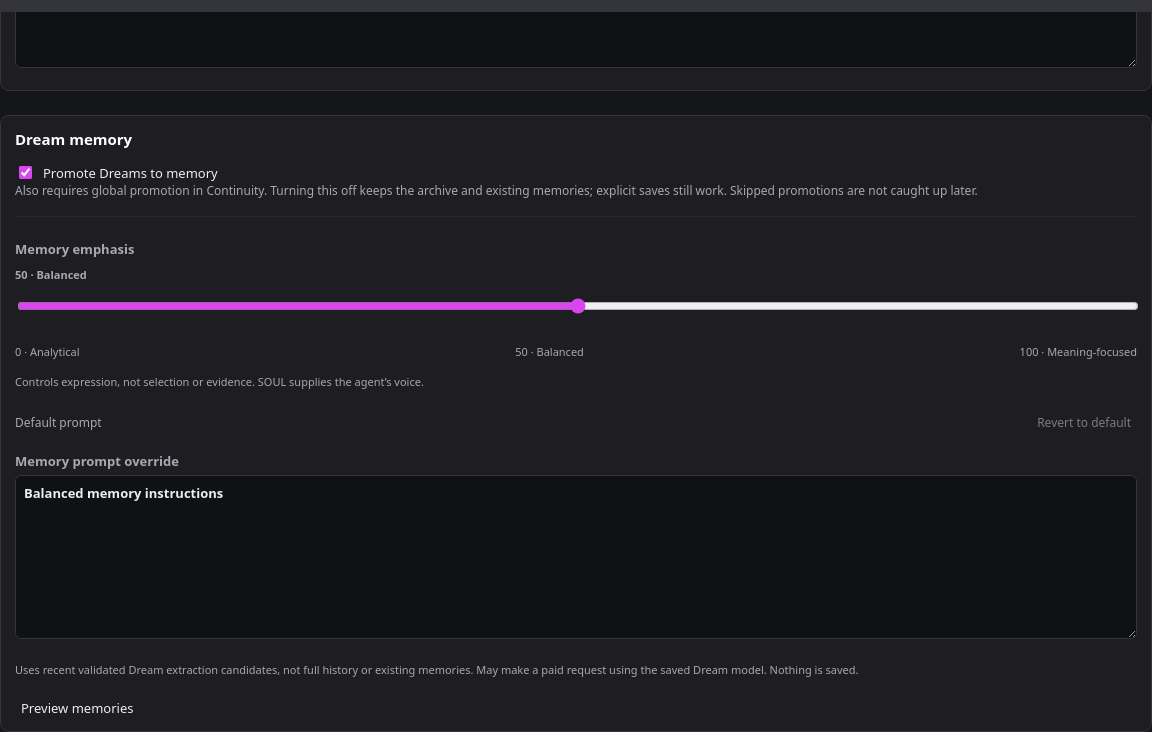
it: requires explicit new sample after token expiry, and keeps Save independent
The image size is (1152, 732).
(page scrolled)
Expected: the slider labelled "Memory emphasis" is enabled, top-left (17, 289), bottom-right (1139, 323)
Click the button "Preview memories" at {"x": 77, "y": 708}, box top-left (15, 698), bottom-right (140, 718)
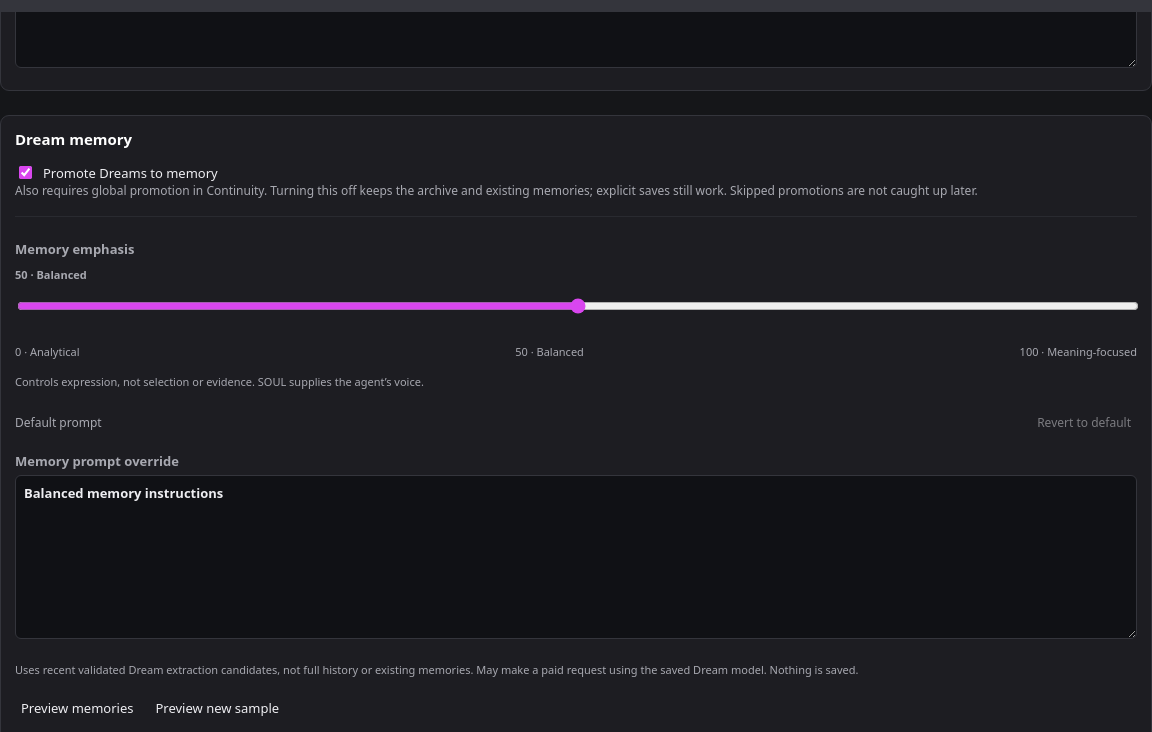
Click the button "Preview memories" at {"x": 77, "y": 708}, box top-left (15, 698), bottom-right (140, 718)
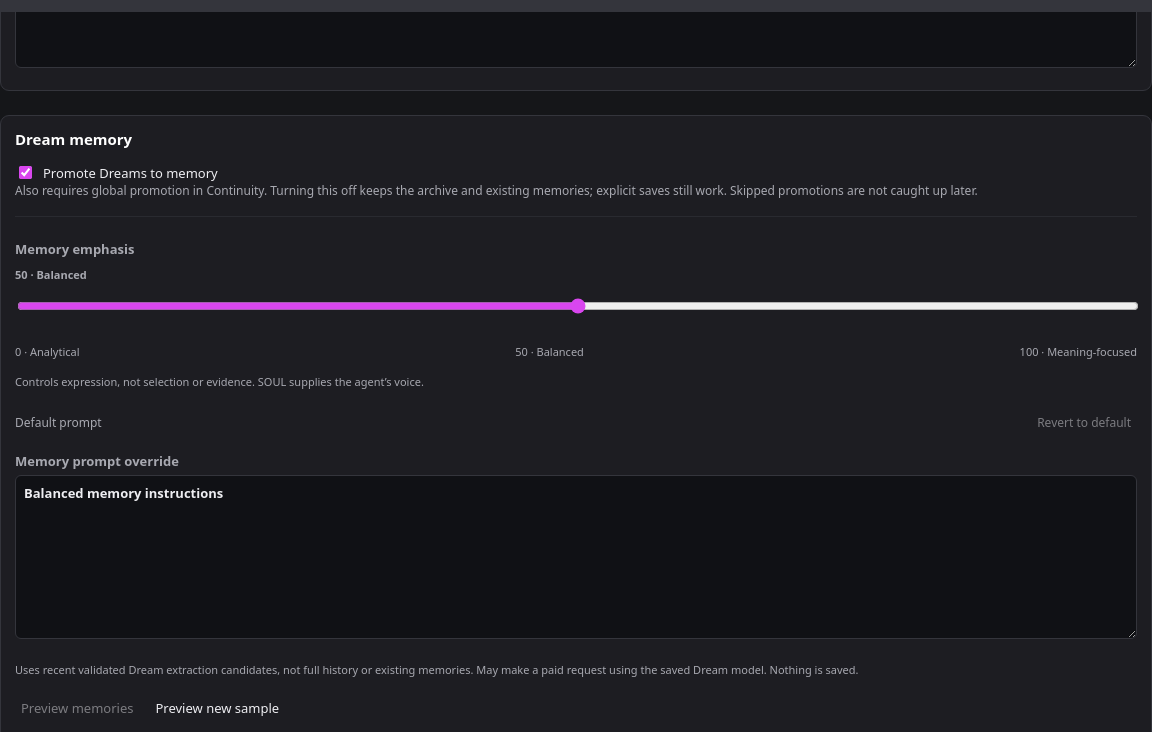
Now the button "Preview memories" is disabled, box top-left (15, 698), bottom-right (140, 718)
Click the button "Preview new sample" at {"x": 217, "y": 708}, box top-left (150, 698), bottom-right (285, 718)
(page scrolled)
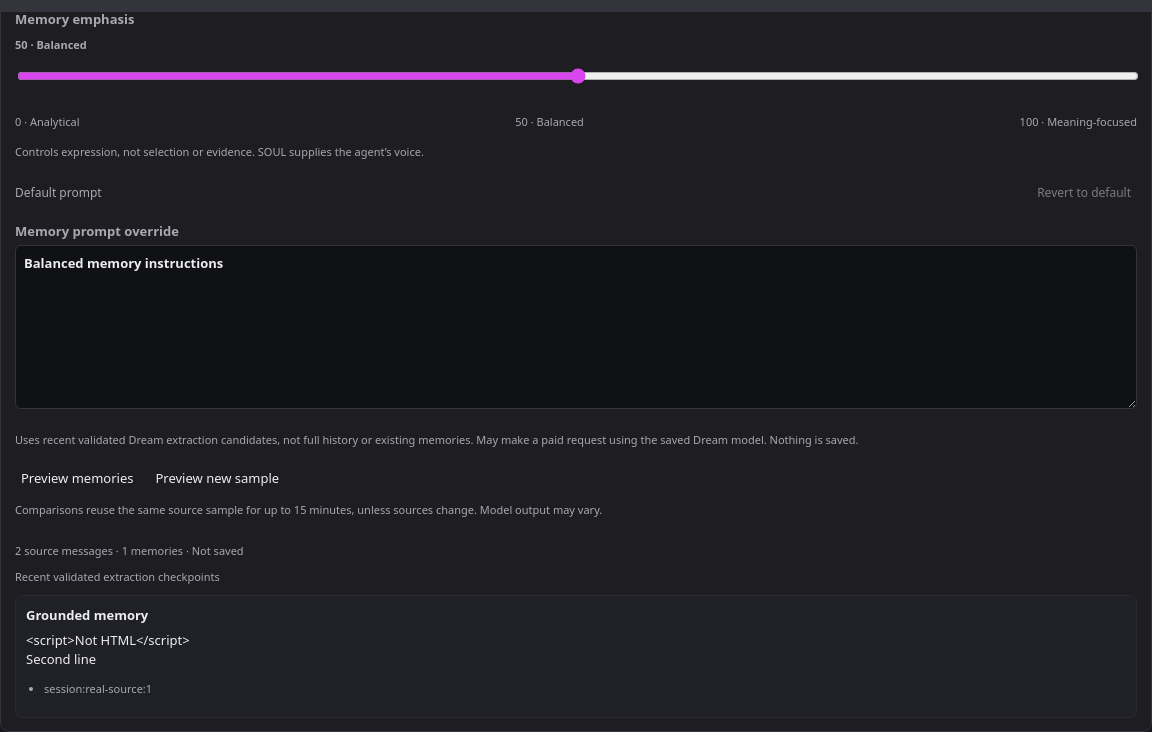
Now the heading "Grounded memory" is shown, box top-left (26, 606), bottom-right (148, 624)
